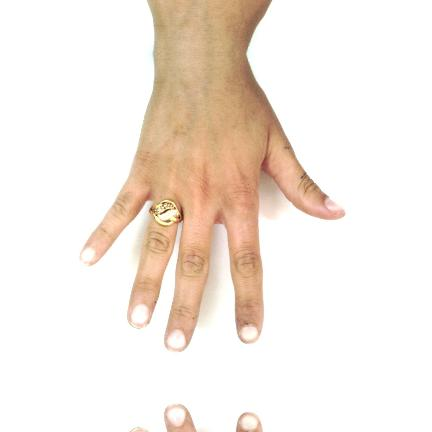Nail: (129, 304, 150, 329), (166, 330, 186, 352), (166, 404, 186, 426), (239, 325, 259, 344), (239, 412, 259, 431), (325, 197, 345, 214), (80, 248, 95, 264), (130, 427, 148, 432)
